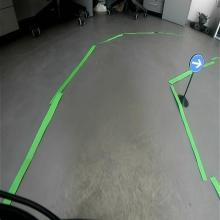right: (189, 53, 204, 72)
